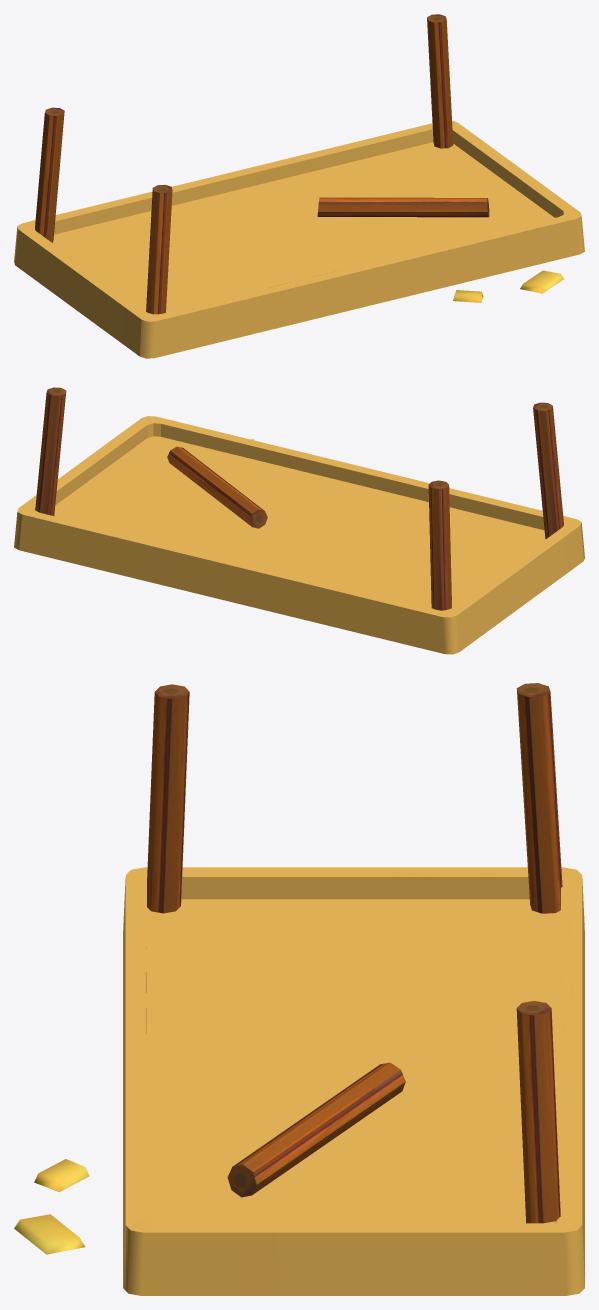
Rendered from arabian_house_foundation.fbx.
The picture shows the model from 3 angles, top to bottom: view 1: azimuth 30°, elevation 25°; view 2: azimuth 150°, elevation 25°; view 3: azimuth 270°, elevation 25°; orthographic projection. The views are drawn at different scales.
Parts seen in each view (by area): view 1: arabian_house_foundation; view 2: arabian_house_foundation; view 3: arabian_house_foundation.
Part boxes in pixels (box(x1,y1,x2,y2)): arabian_house_foundation: box(14, 14, 584, 358); arabian_house_foundation: box(14, 387, 584, 654); arabian_house_foundation: box(14, 683, 584, 1295).
Size of the model in its own units: 4.46 by 1.47 by 2.91.
